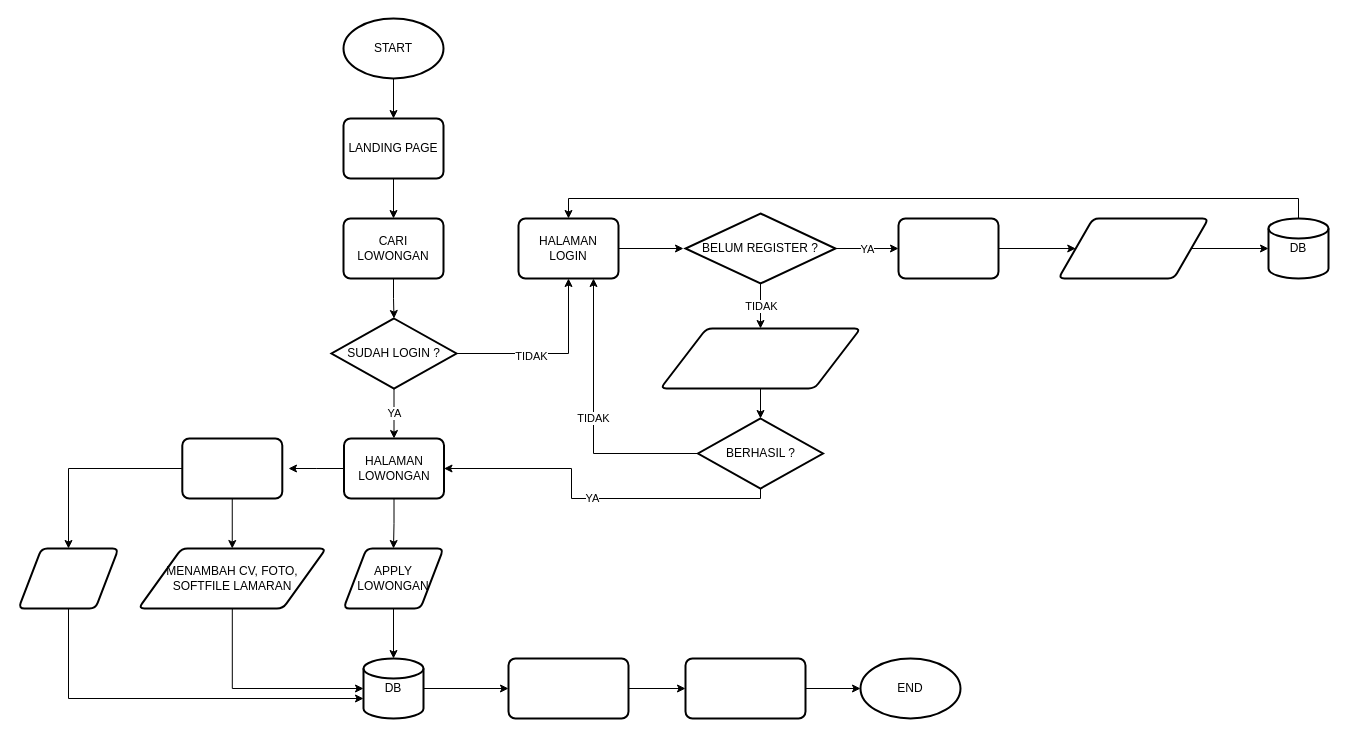
The diagram is 1346 pixels wide and 736 high, and some of its shapes have lost their labels. Each missing label, with the centre of its shape:
"EDIT PROFILE" goes at point (68, 578).
"HALAMAN REGISTER" goes at point (948, 248).
"HASIL APPLY DI KIRIM KE EMAIL" goes at point (745, 688).
"KELOLA PROFIL" goes at point (232, 468).
"LAMARAN DI KELOLA ADMIN" goes at point (568, 688).
"MASUKAN EMAIL DAN PASSWORD" goes at point (760, 358).
"MASUKAN FORM PENDAFTARAN" goes at point (1133, 248).
